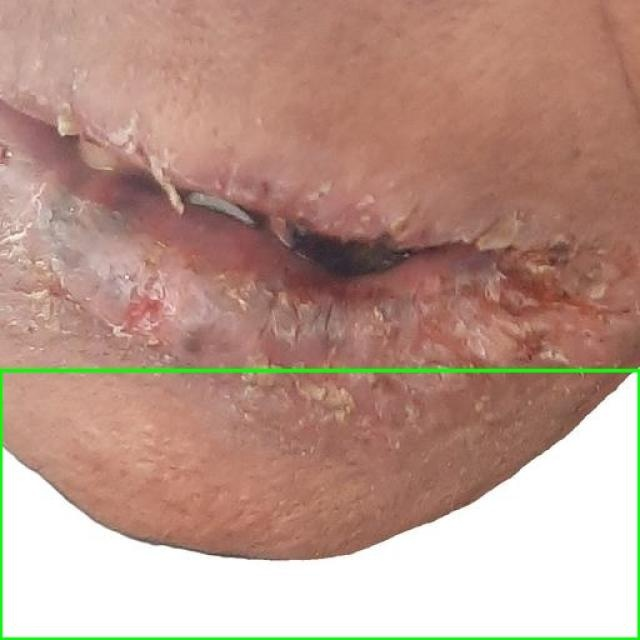Contact Dermatitis: (0, 370, 639, 639)
